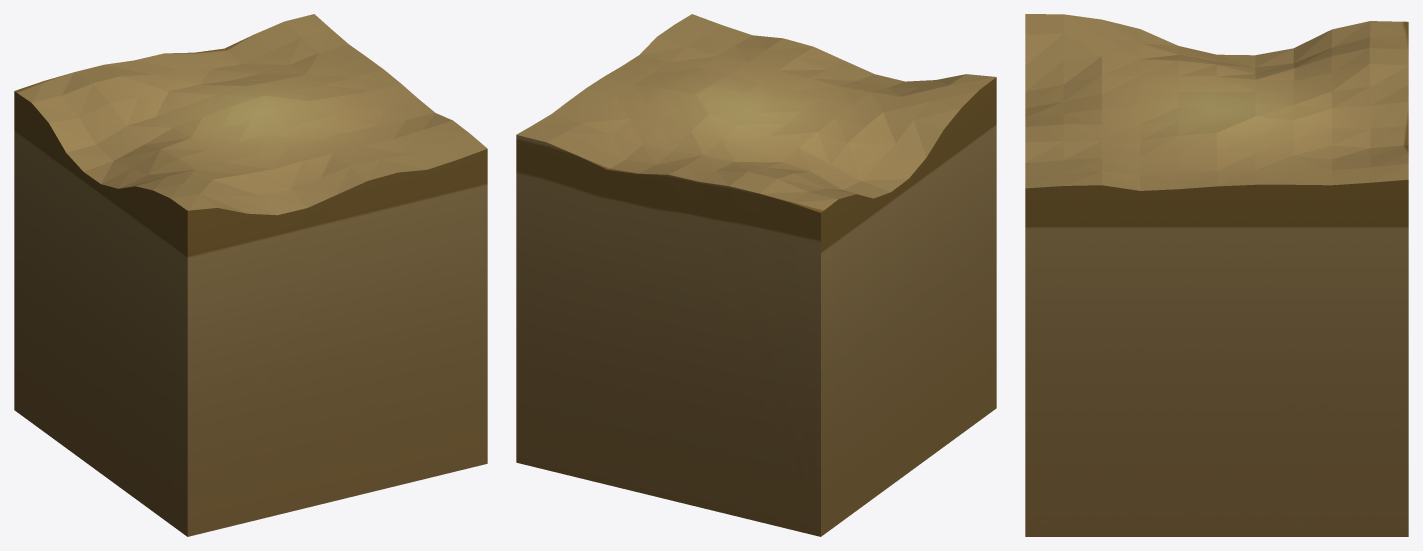
File: Environmental block 3.fbx
3 renders of one model, left to right at view 1: azimuth 30°, elevation 25°; view 2: azimuth 150°, elevation 25°; view 3: azimuth 270°, elevation 25°, orthographic. The views are drawn at different scales.
Visible parts, largest first — view 1: Environmental_block_3; view 2: Environmental_block_3; view 3: Environmental_block_3.
Part boxes in pixels (<box>): Environmental_block_3: <box>14,14,487,536</box>; Environmental_block_3: <box>516,14,996,536</box>; Environmental_block_3: <box>1025,14,1408,536</box>.
Size of the model in its own units: 100 by 104 by 100.
1 material, 1 textured.
